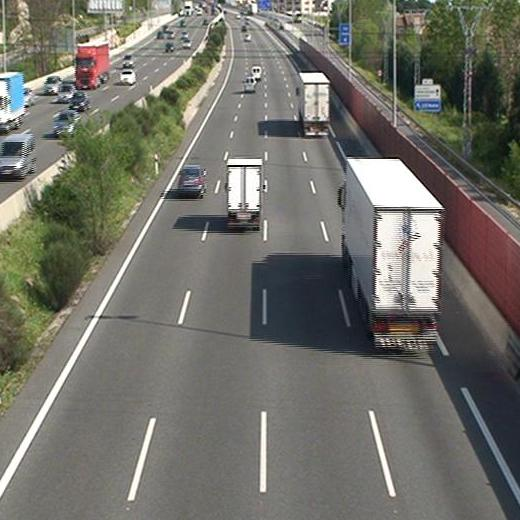car: (179, 165, 206, 196)
small-truck: (226, 159, 261, 230)
truck: (341, 160, 440, 348), (297, 73, 329, 136)
van: (244, 77, 256, 92), (253, 65, 262, 80)
